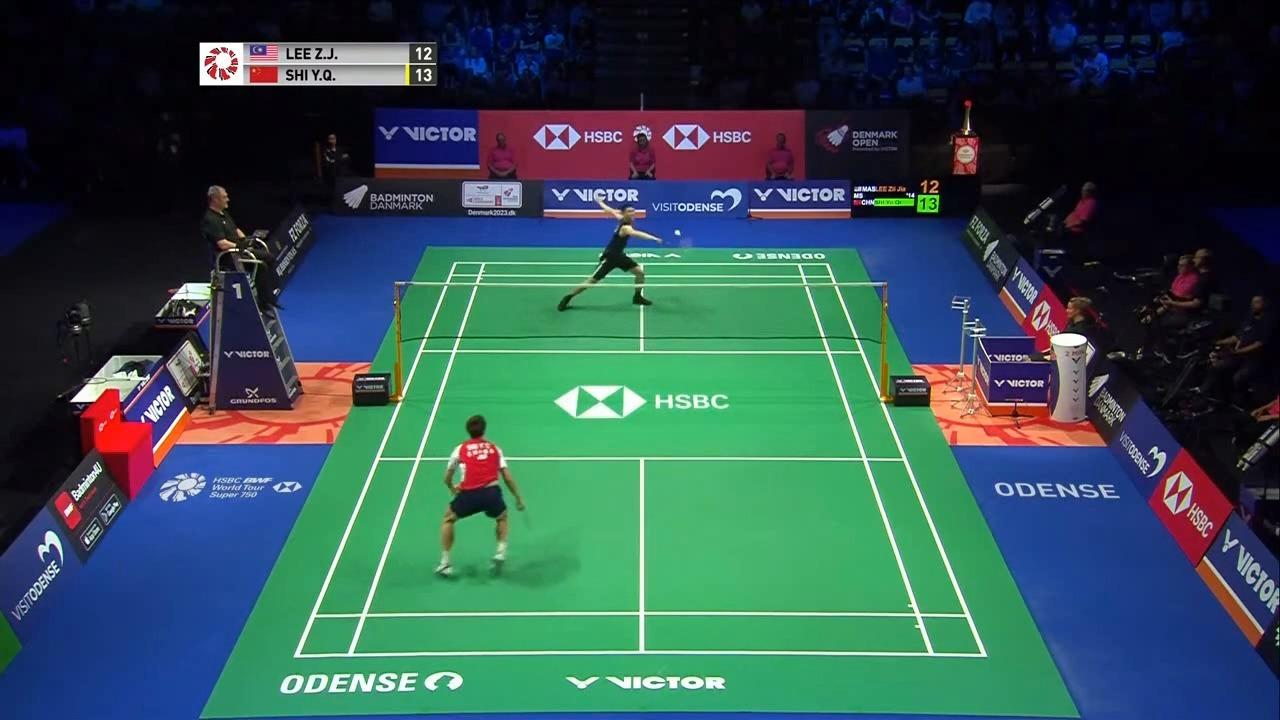shuttle: (675, 230, 682, 237)
